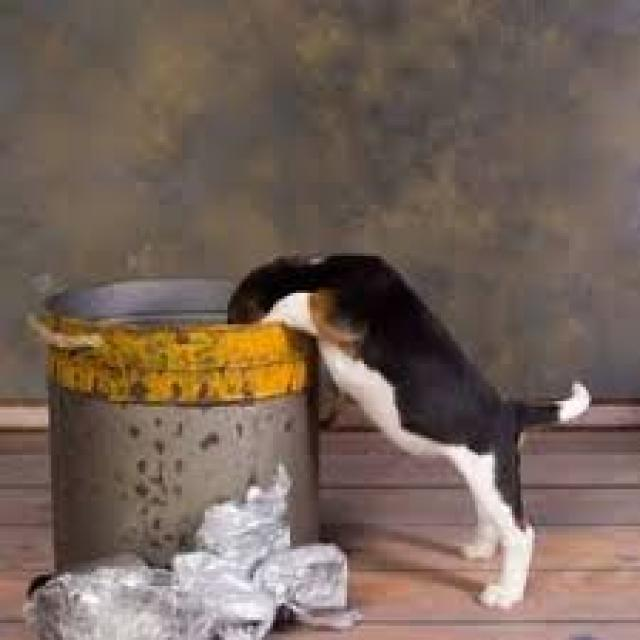Dog: (238, 239, 594, 612)
